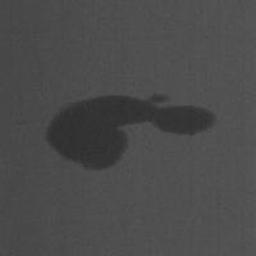Oil spot: (46, 95, 214, 170)
